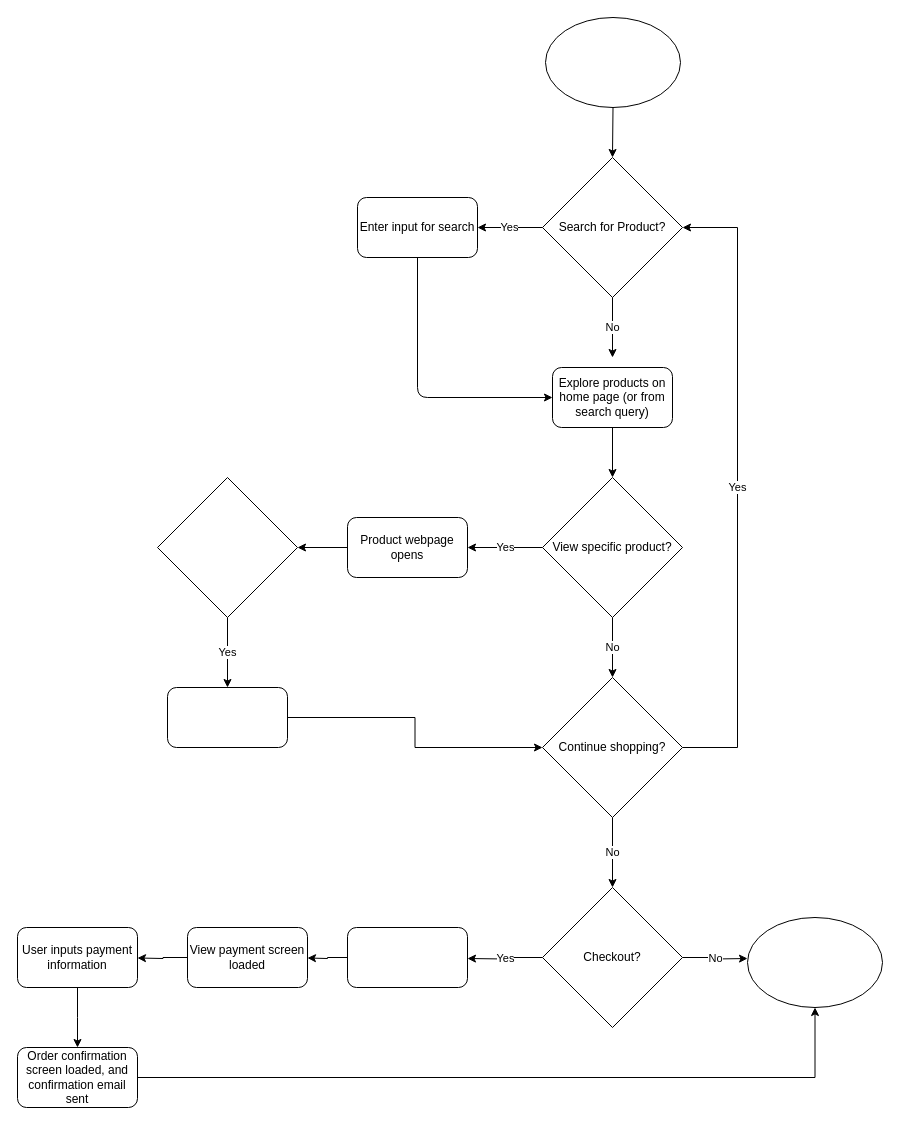
The diagram is 900 pixels wide and 1125 high, and some of its shapes have lost their labels. The shapes that lost their labels are listed below. From the top down, each one's centre as x and y in pixels, then its label:
At (612,62): "User enters website".
At (227,547): "Add to cart?".
At (227,717): "Product added to cart".
At (407,957): "View cart screen loaded".
At (814,962): "User leaves website".
